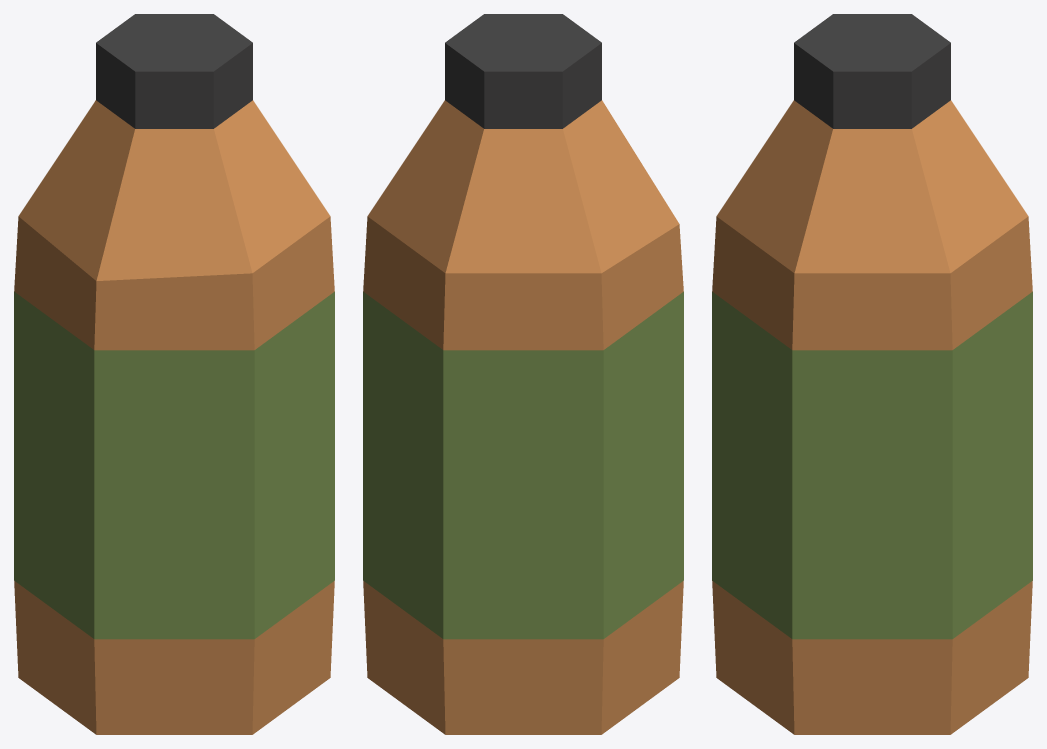
The model's file is SM_Item_Drink_02.fbx.
3 renders of one model, left to right at view 1: azimuth 30°, elevation 25°; view 2: azimuth 150°, elevation 25°; view 3: azimuth 270°, elevation 25°, orthographic.
Visible parts, largest first — view 1: SM_Item_Drink_02; view 2: SM_Item_Drink_02; view 3: SM_Item_Drink_02.
Part boxes in pixels (<box>): SM_Item_Drink_02: <box>14,14,334,734</box>; SM_Item_Drink_02: <box>363,14,683,734</box>; SM_Item_Drink_02: <box>712,14,1032,734</box>.
Size of the model in its own units: 8.85 by 22.32 by 10.21.
